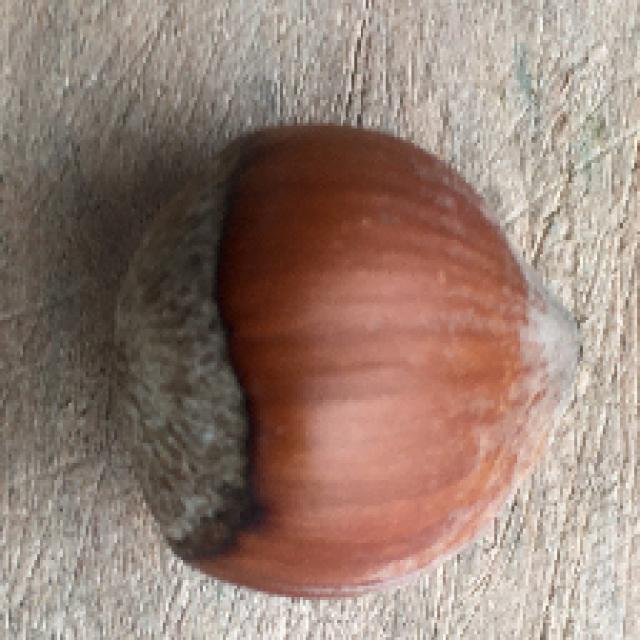hazelnut: (106, 117, 596, 598)
